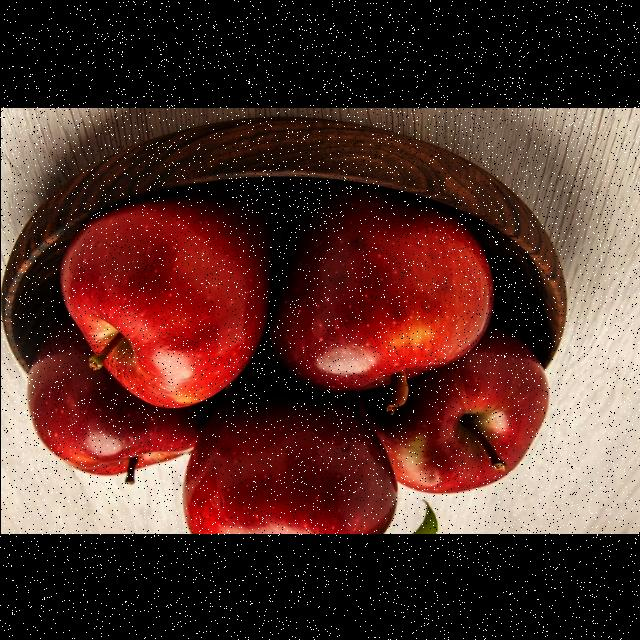Apel Segar: (276, 166, 494, 397), (60, 200, 264, 414), (374, 322, 576, 502), (166, 398, 418, 532), (1, 330, 210, 478)
